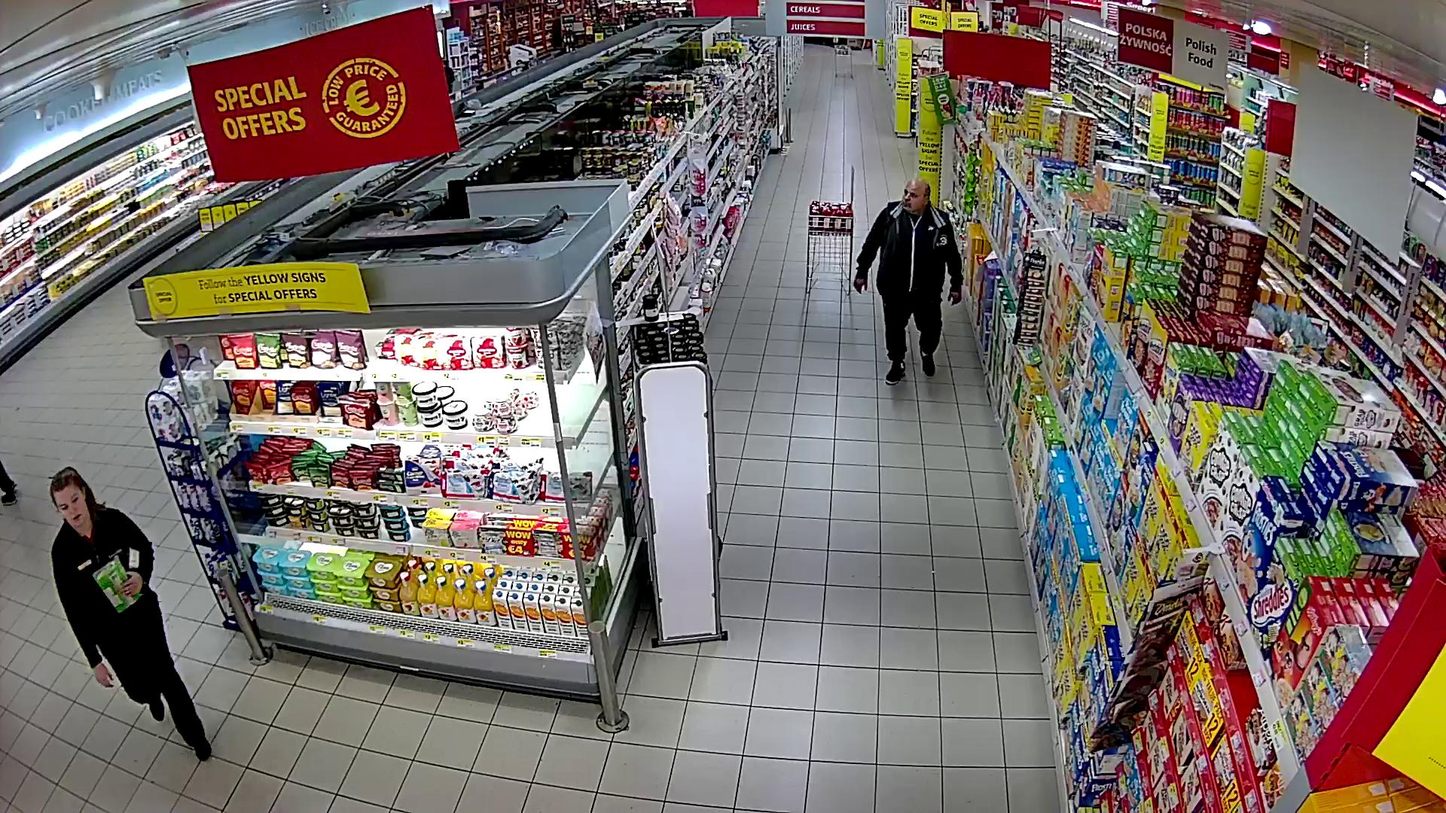carrying-item: (92, 554, 143, 614)
person: (50, 465, 212, 762)
person-with-carrying-item: (51, 464, 213, 762)
